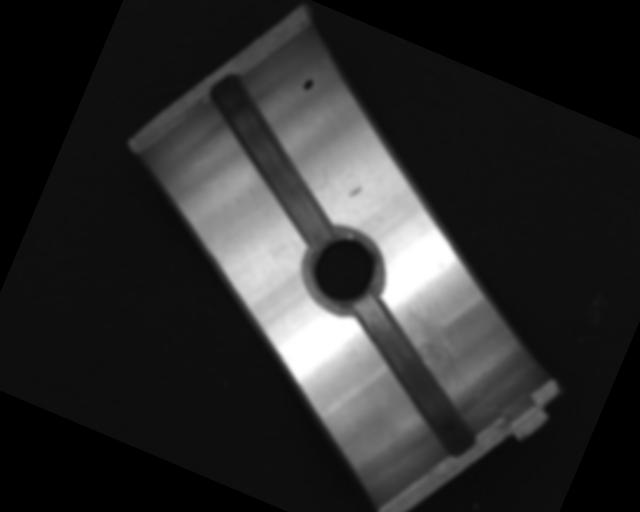blot: (301, 76, 315, 94)
bruise: (347, 184, 363, 201)
gap: (177, 74, 368, 249), (317, 293, 507, 462)
hole: (291, 218, 395, 324)
scratch: (378, 299, 488, 396)
